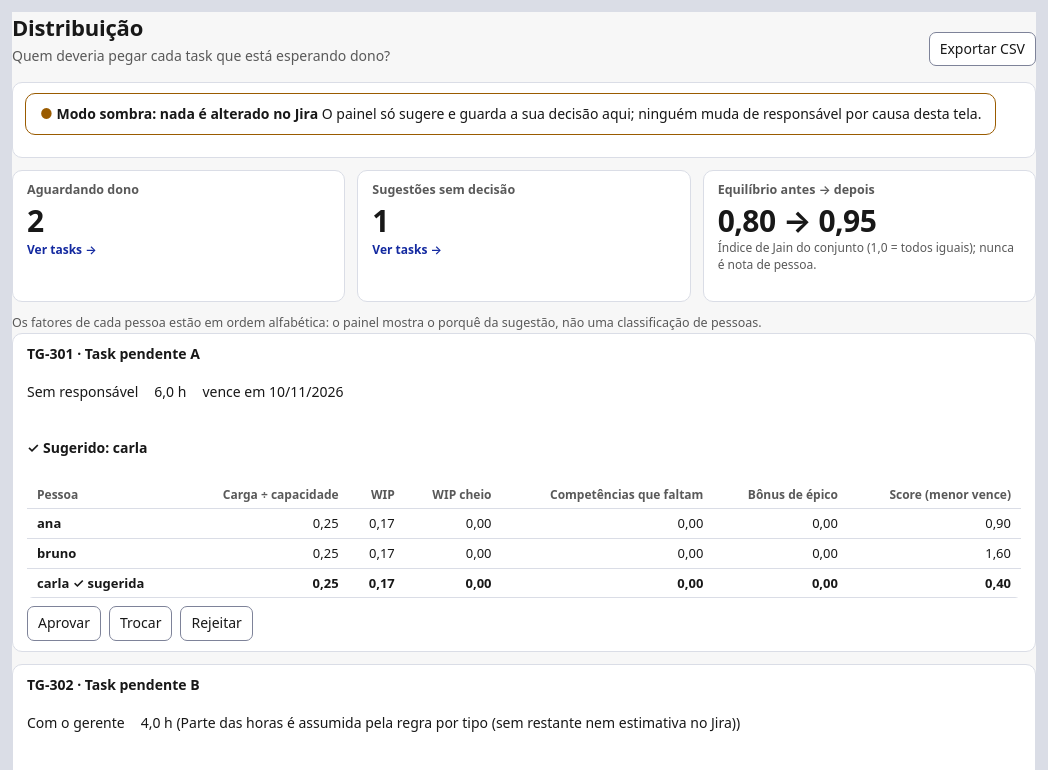
Test: tela Distribuição › decisaoDuplicadaMostraMensagem
Check: the heading "TG-301 · Task pendente A" is shown, box [27,344,200,363]
Click the button "Aprovar" at {"x": 64, "y": 624}, box [27,606,101,641]
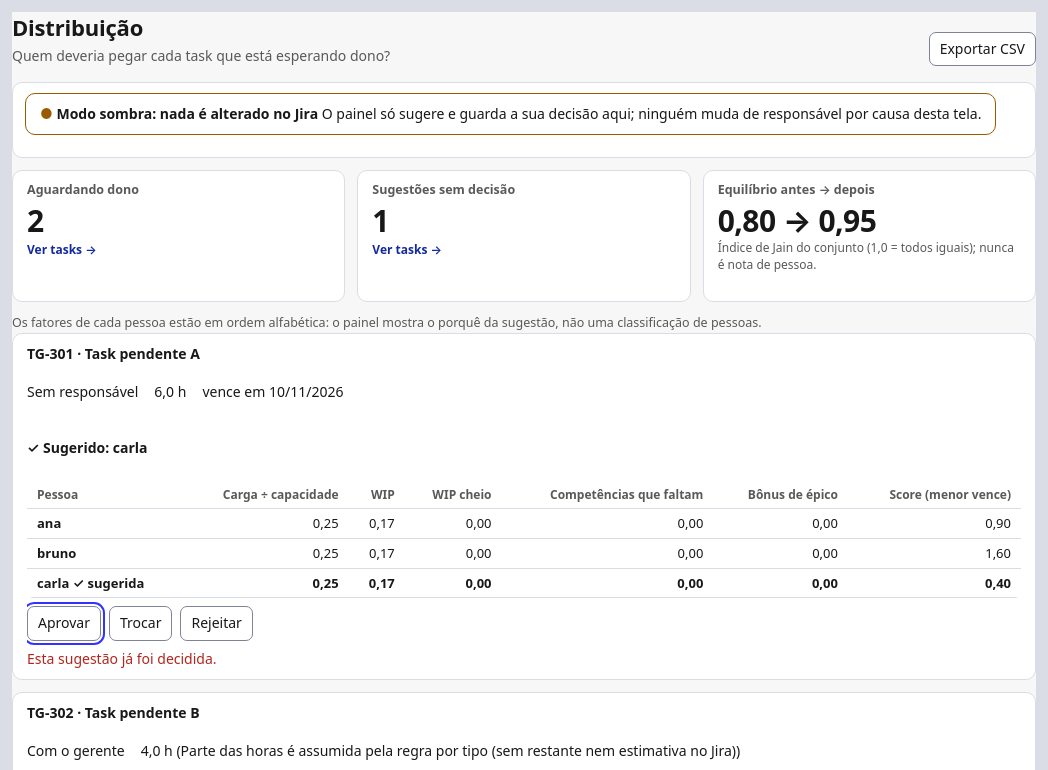
Check: the message reads "Esta sugestão já foi decidida.", box [27,649,216,668]
